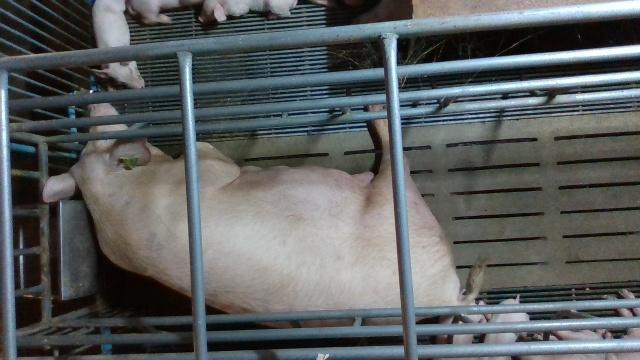piglet: (88, 0, 144, 90), (434, 289, 487, 360), (479, 292, 529, 360), (516, 328, 605, 360), (603, 289, 640, 360), (199, 0, 298, 22), (128, 0, 202, 25)
sow-sleep: (42, 102, 484, 328)
